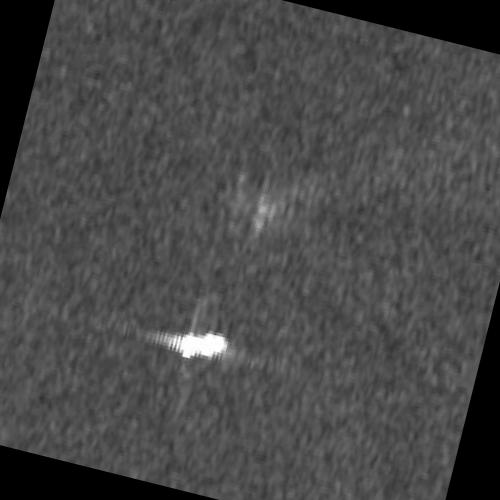ship: (171, 331, 230, 360)
